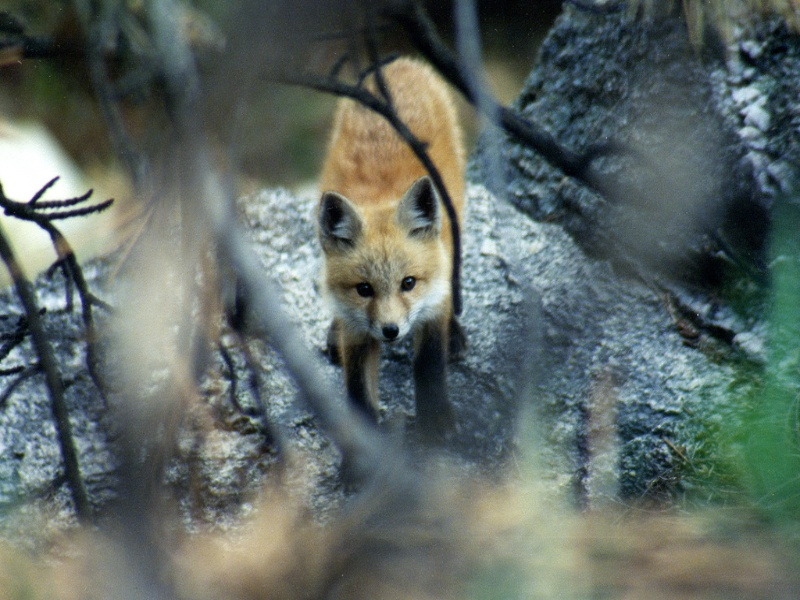fox: (308, 44, 482, 443)
